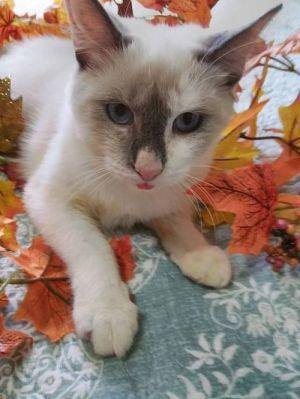siamese: (56, 1, 258, 214)
